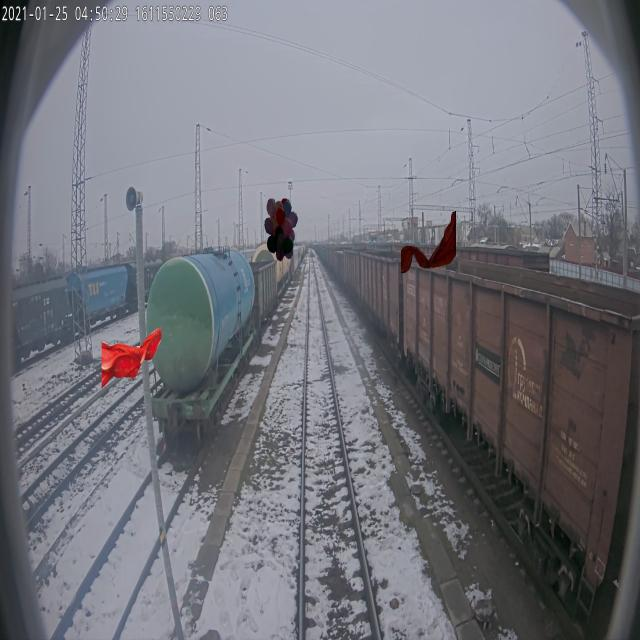balloon: (264, 198, 298, 262)
floating object: (102, 326, 161, 390), (401, 210, 456, 274)
